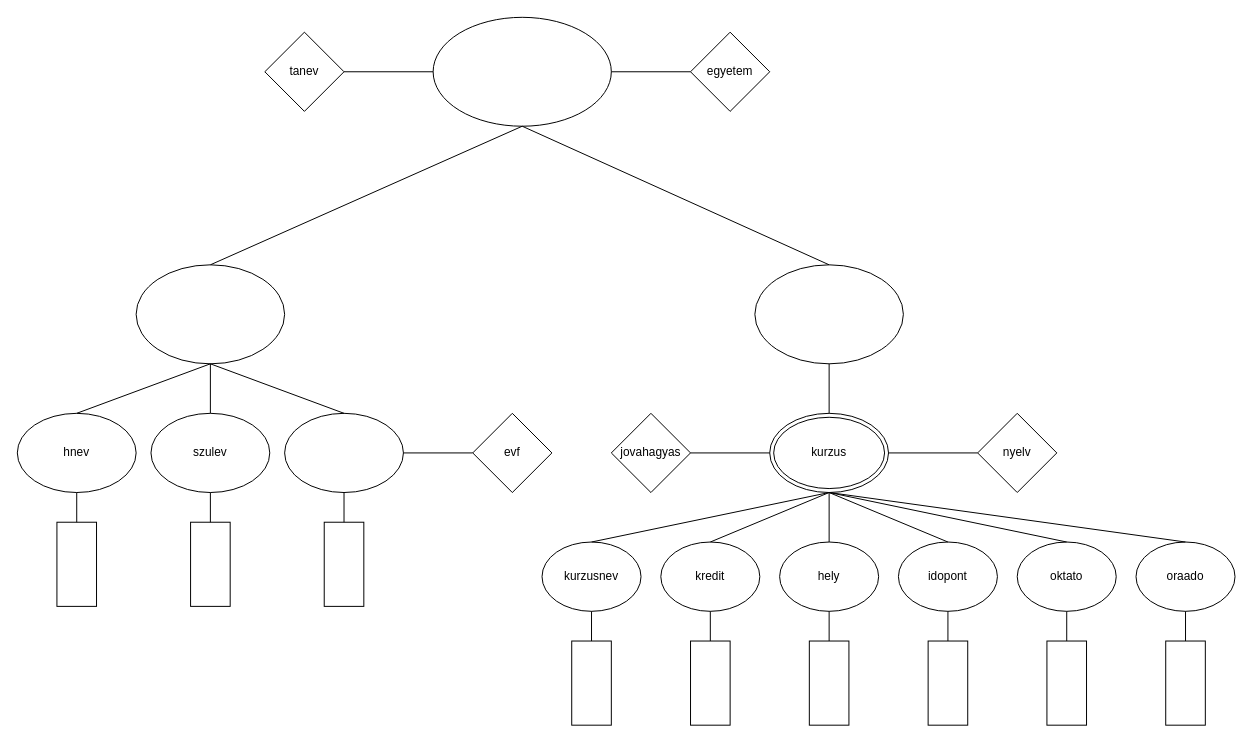
Some shapes in this 1252 by 743 pixel diagram are drawn without their labels. Each missing label, with the centre of its shape:
hallgato: (x=210, y=314)
kurzusok: (x=828, y=314)
szak: (x=343, y=452)
U7W4RZ_kurzusfelvetel: (x=521, y=71)
